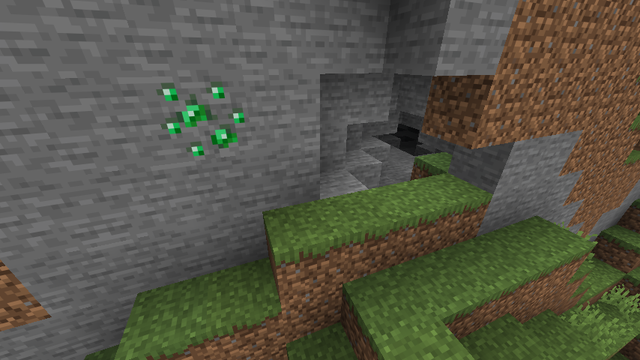emerald: (153, 82, 251, 165)
